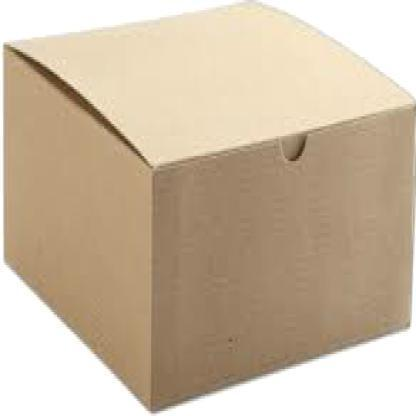box: (3, 8, 415, 414)
